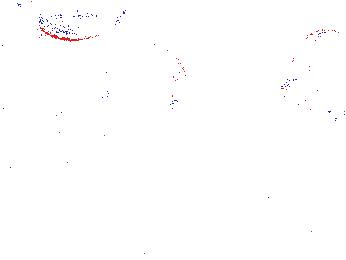moon jellyfish: (105, 41, 187, 110), (17, 1, 124, 44), (299, 28, 346, 121), (1, 3, 43, 86)
